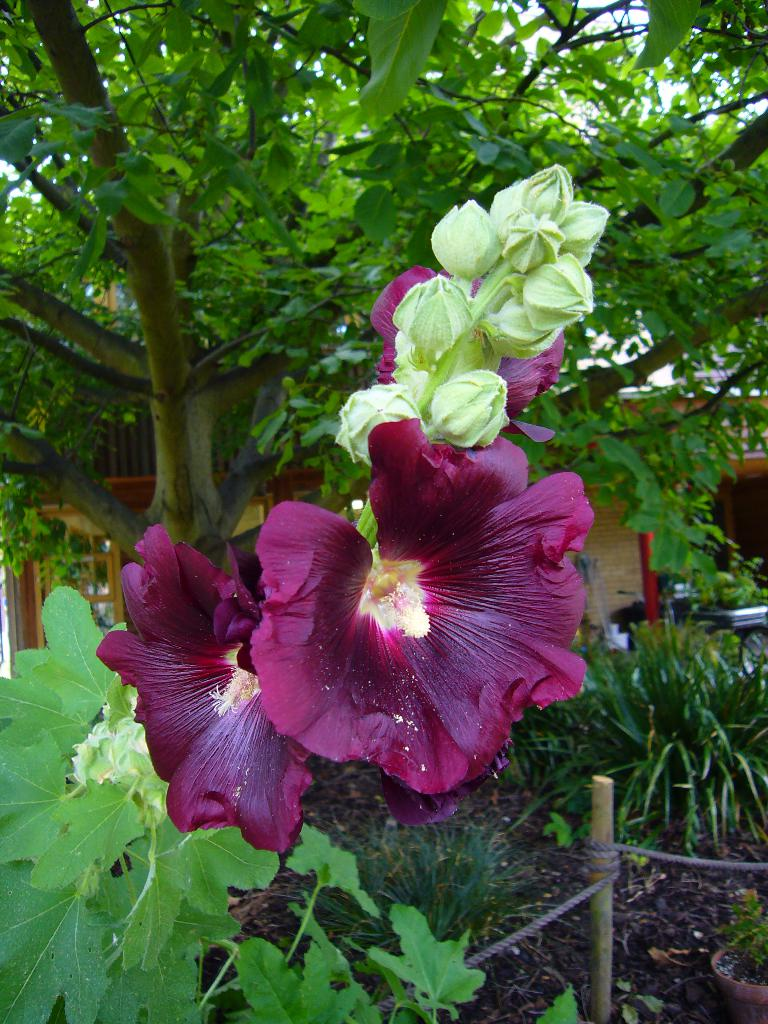Tree: (0, 0, 768, 590)
